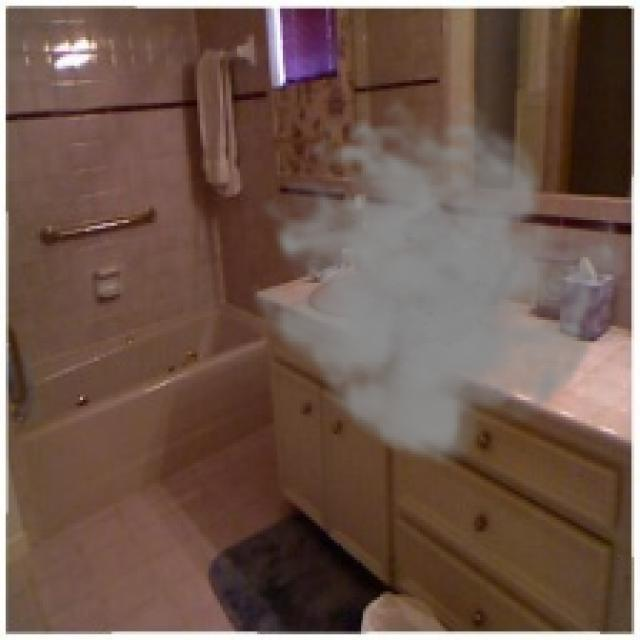Smoke: (237, 97, 634, 469)
